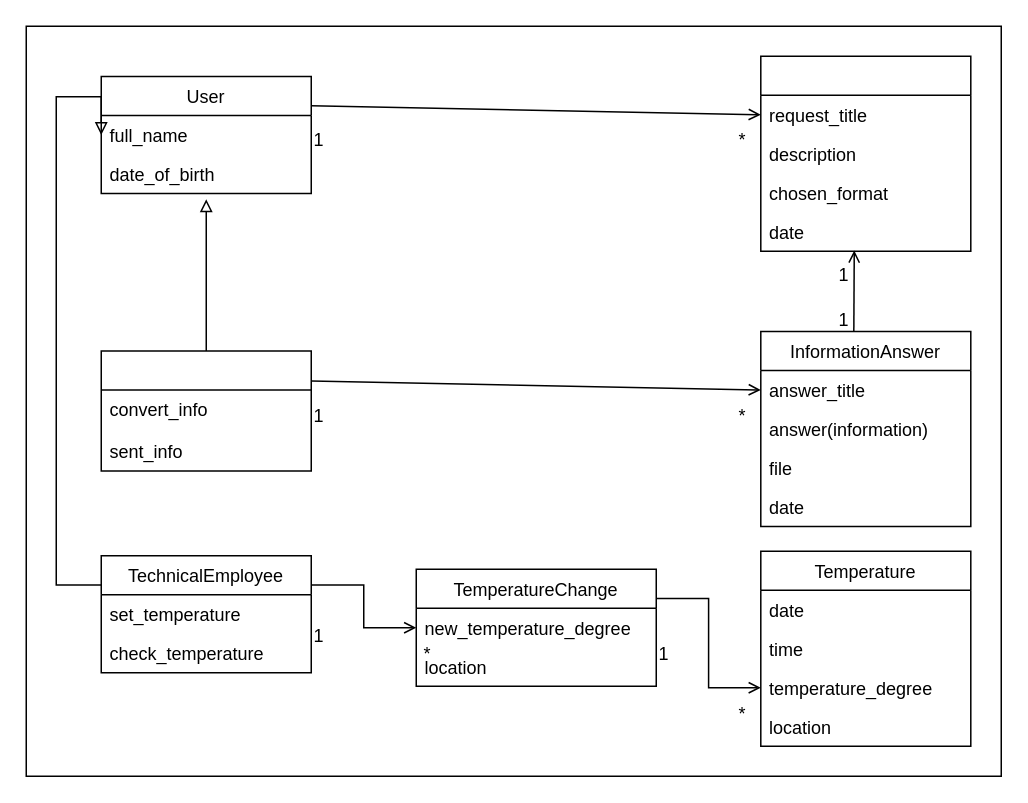
The diagram is 1028 pixels wide and 803 high, and some of its shapes have lost their labels. Each missing label, with the box of its shape:
InformationRequest: (759, 55, 971, 251)
OfficeEmployee: (100, 350, 311, 471)
